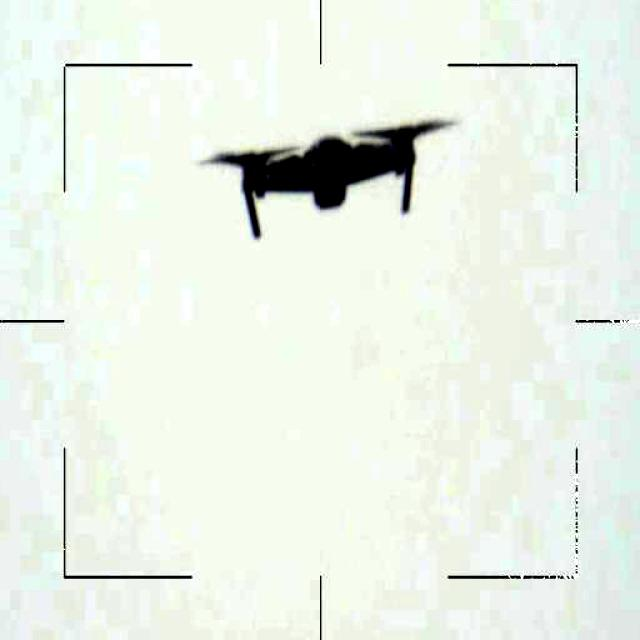bird: (195, 110, 464, 238)
